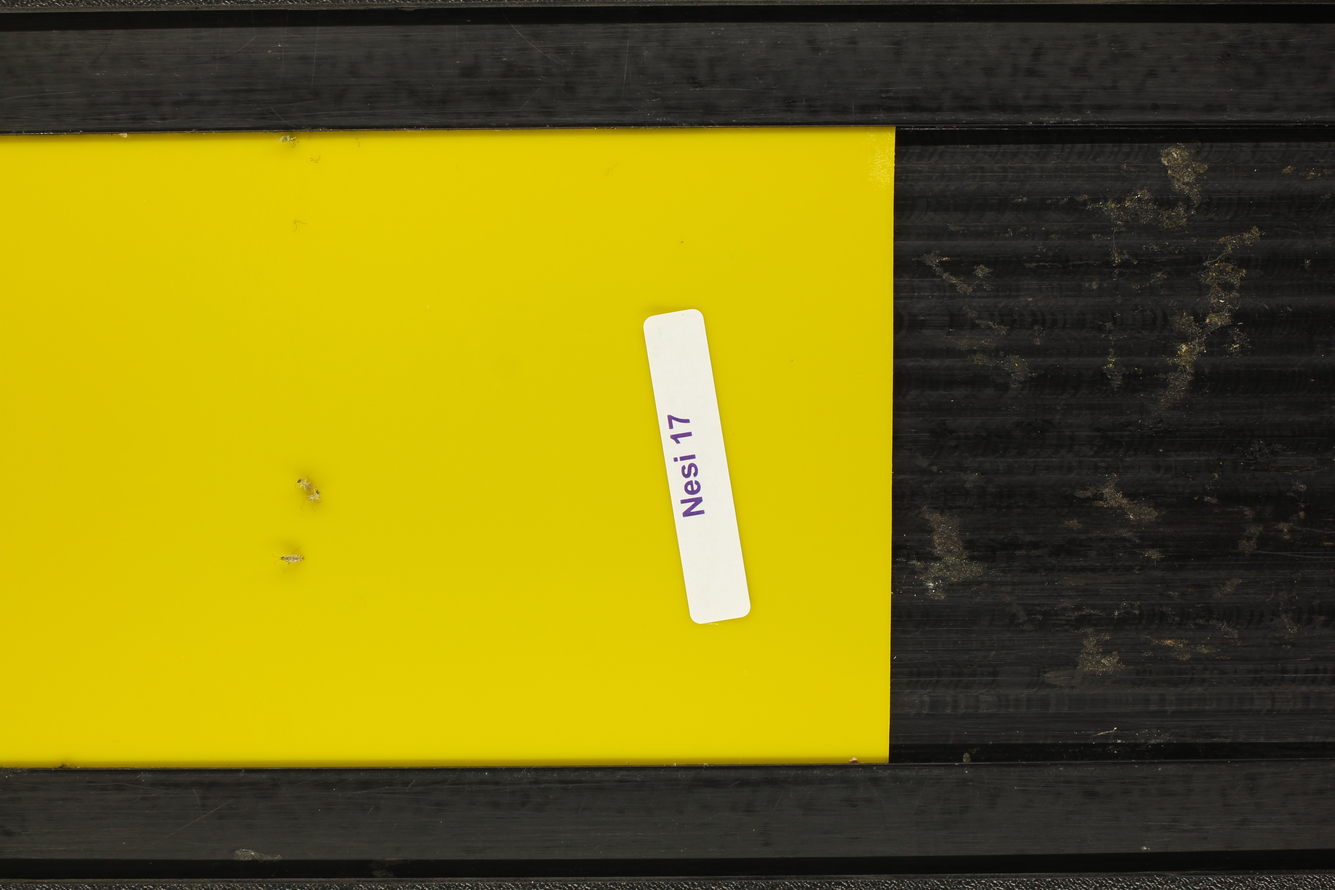NC: (265, 544, 314, 575), (303, 489, 331, 510), (292, 472, 312, 491)
